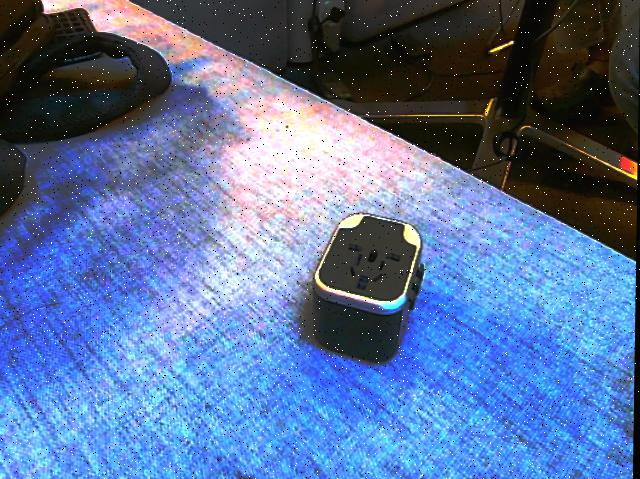adapter: (312, 211, 426, 363)
